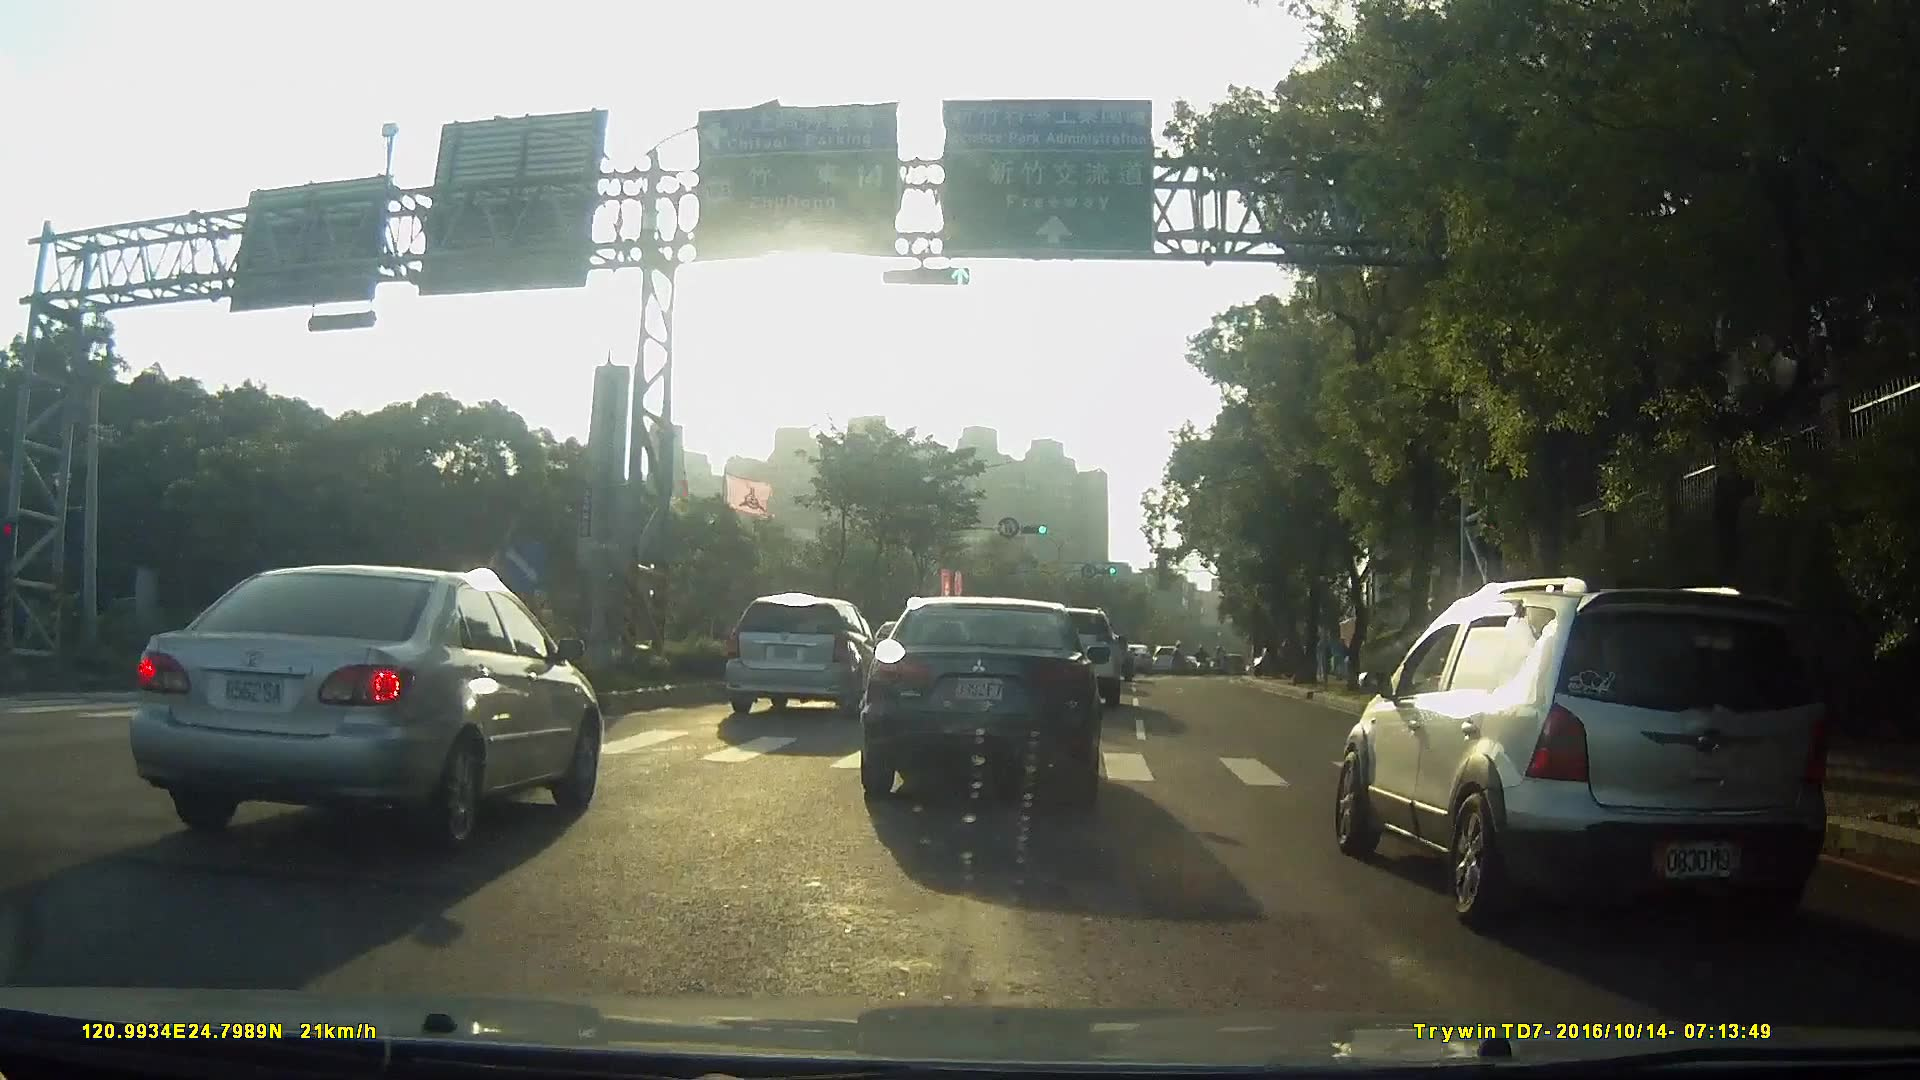vehicle: (1333, 574, 1842, 949), (105, 560, 618, 865), (855, 596, 1124, 814), (713, 597, 878, 727), (1114, 642, 1149, 673), (1145, 646, 1176, 676)
